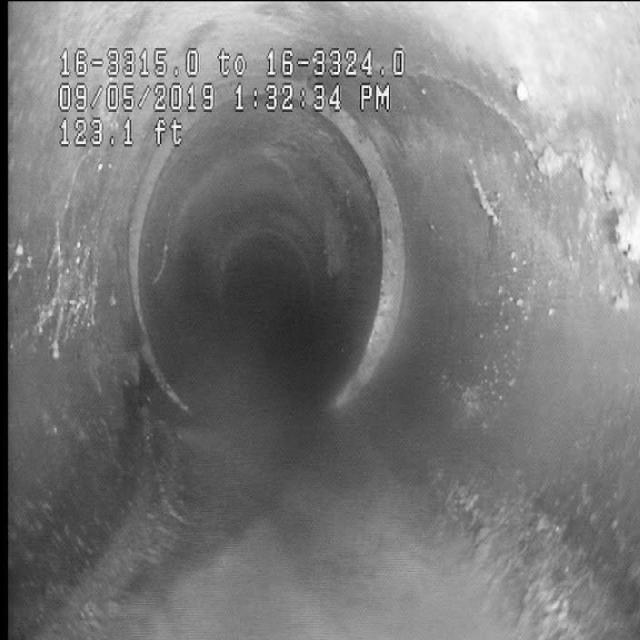Crack: (432, 52, 570, 216)
